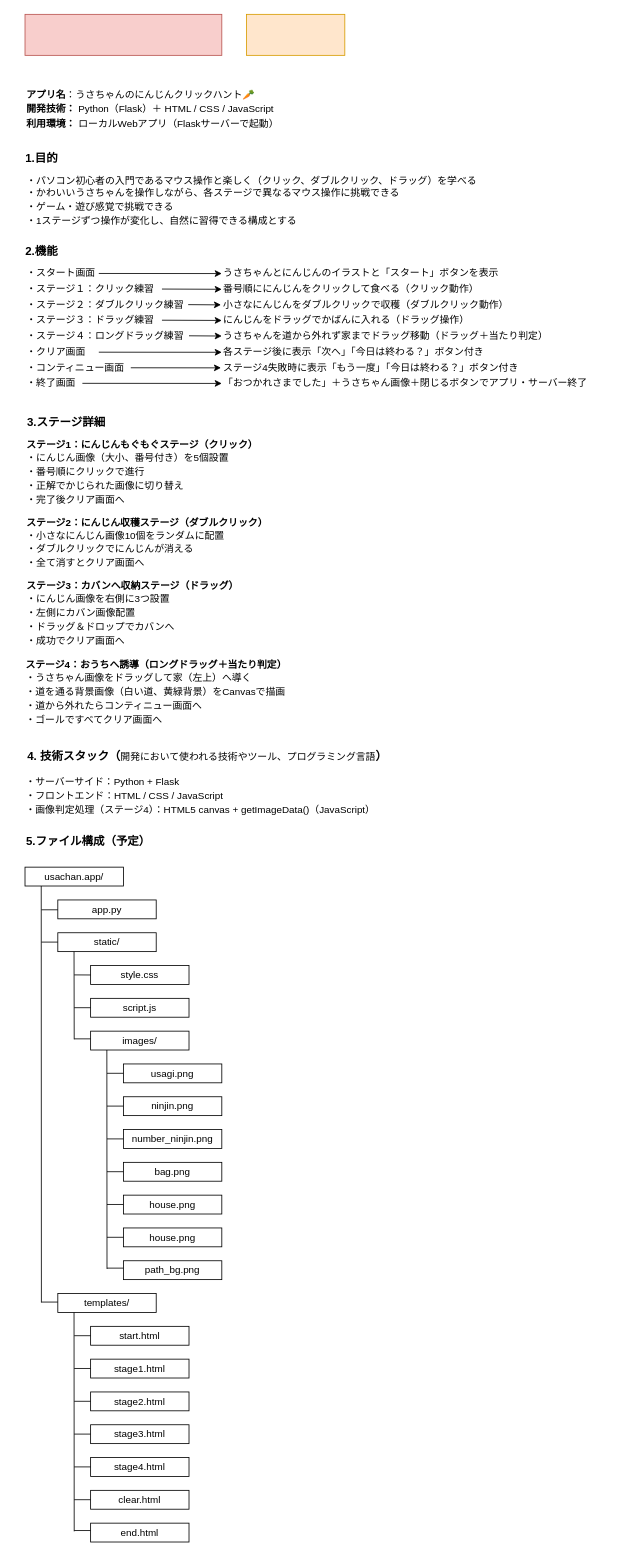
Some shapes in this 621 by 1556 pixel diagram are drawn without their labels. Each missing label, with the box of its shape:
うさちゃんのにんじんクリックハント🥕: (24, 14, 222, 55)
要件定義: (246, 14, 345, 55)
